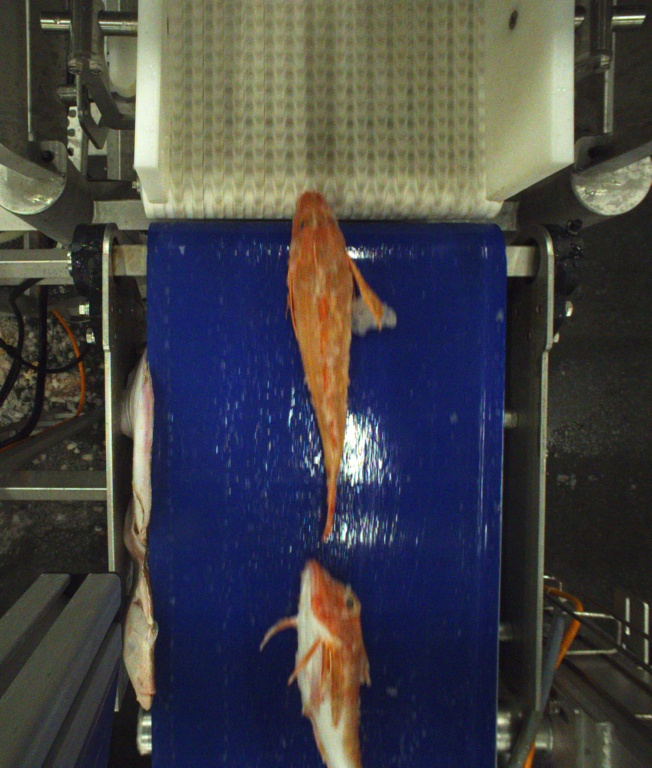GUU: (285, 188, 387, 544)
